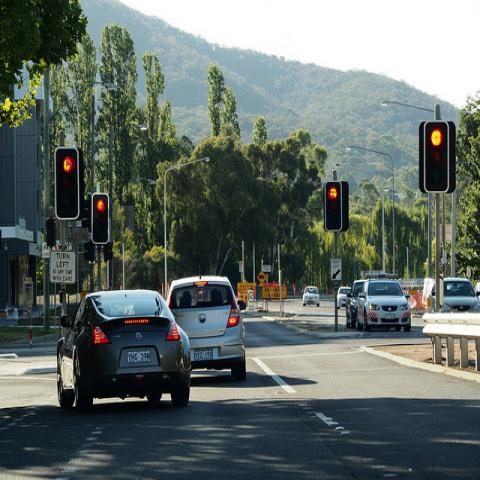car: (56, 287, 191, 410), (165, 265, 247, 382), (354, 277, 411, 334), (427, 276, 479, 314), (345, 279, 365, 328), (337, 286, 352, 310), (303, 286, 320, 307)
